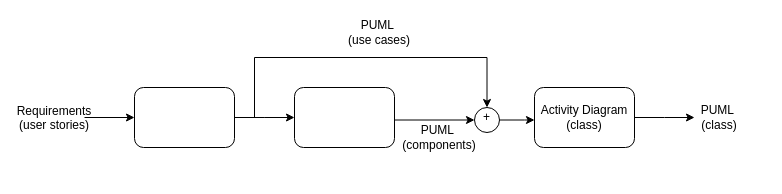
Image size: 782x194. Some labels were removed from this diagram. The shapes that lost their labels are listed below. From the top down, each one's centre as x and y in pixels, then its label:
point 184,117: Activity Diagram (use cases)
point 344,117: Activity Diagram (components)
